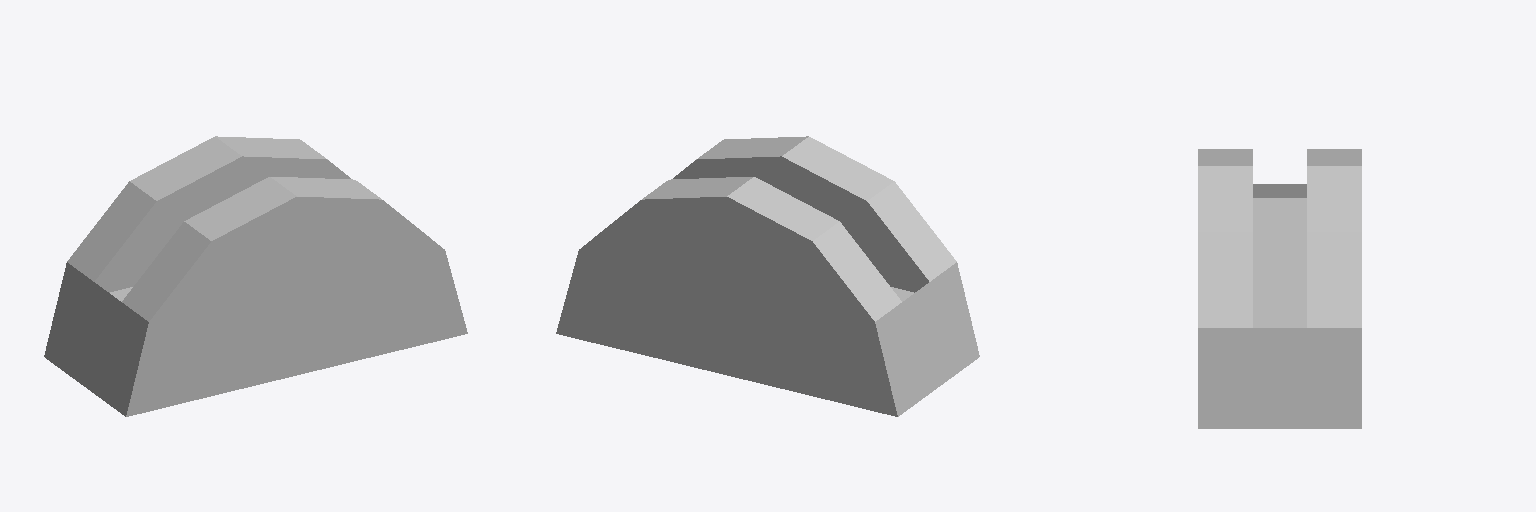
Rendered from Switch_Pivot.obj.
3 renders of one model, left to right at view 1: azimuth 30°, elevation 25°; view 2: azimuth 150°, elevation 25°; view 3: azimuth 270°, elevation 25°, orthographic.
Visible parts, largest first — view 1: Cylinder; view 2: Cylinder; view 3: Cylinder.
Boxes of the visible parts, x1=… form: Cylinder: x1=44, y1=136, x2=467, y2=416; Cylinder: x1=556, y1=136, x2=979, y2=416; Cylinder: x1=1198, y1=149, x2=1361, y2=428.
Size of the model in its own units: 0.9527 by 0.4767 by 0.3964.